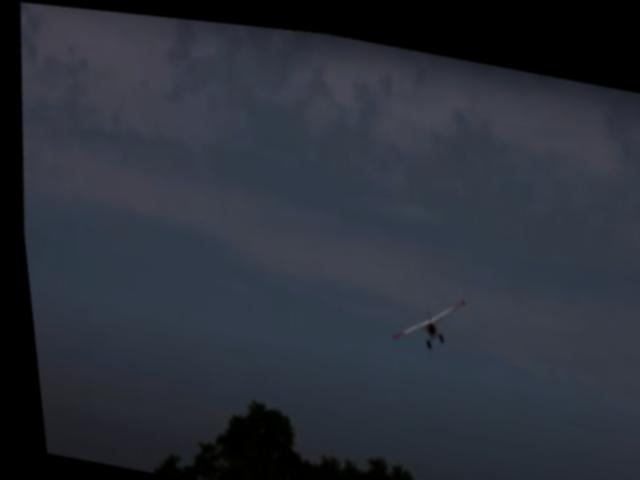uav: (377, 270, 470, 358)
